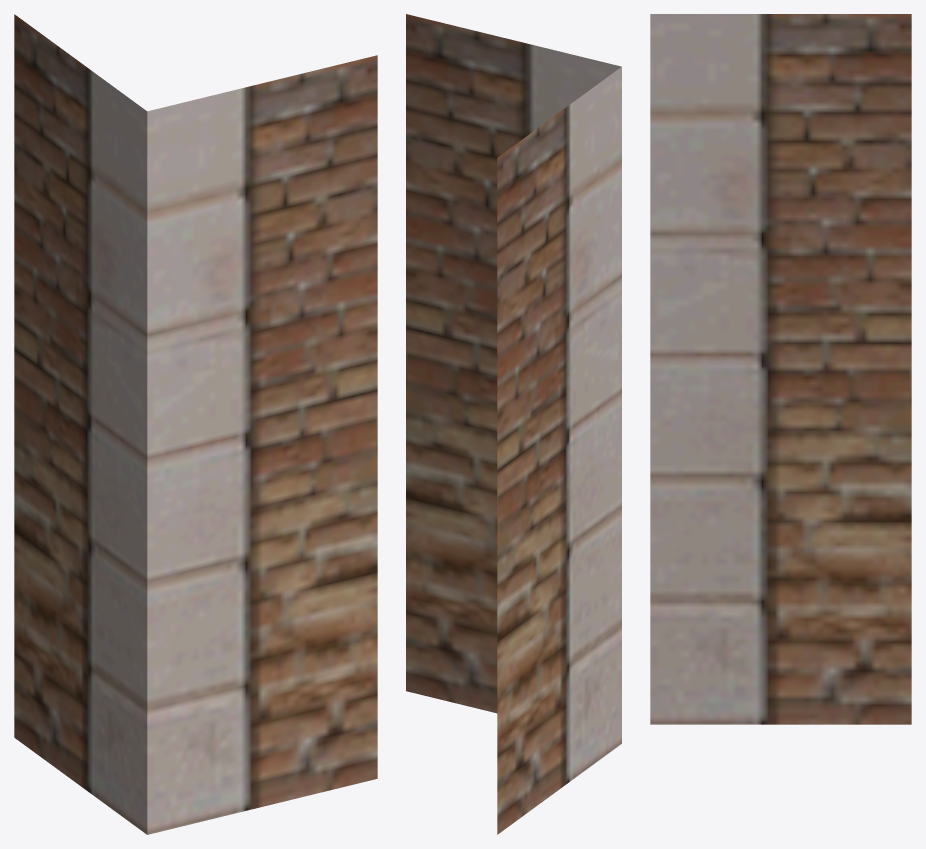
Rendered from fancy_brick_wall_corner.fbx.
3 renders of one model, left to right at view 1: azimuth 30°, elevation 25°; view 2: azimuth 150°, elevation 25°; view 3: azimuth 270°, elevation 25°, orthographic. The views are drawn at different scales.
Visible parts, largest first — view 1: fancy_brick_wall_corner; view 2: fancy_brick_wall_corner; view 3: fancy_brick_wall_corner.
Part boxes in pixels (x1,y1,x2,y2): fancy_brick_wall_corner: (14, 14, 377, 834); fancy_brick_wall_corner: (406, 14, 621, 834); fancy_brick_wall_corner: (650, 14, 911, 724).
Bounding box in the file's own units: 100 × 300 × 100.
Materials: 1 (1 with a texture image).
